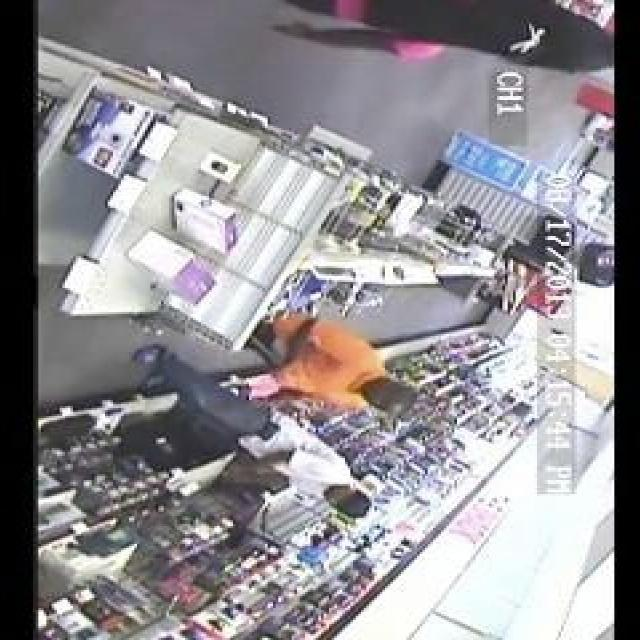Shoplifting: (56, 299, 476, 541)
